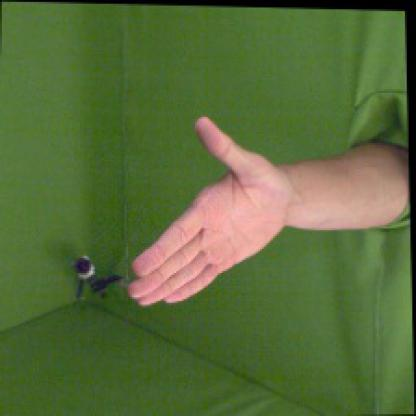Hand: (129, 116, 293, 306)
